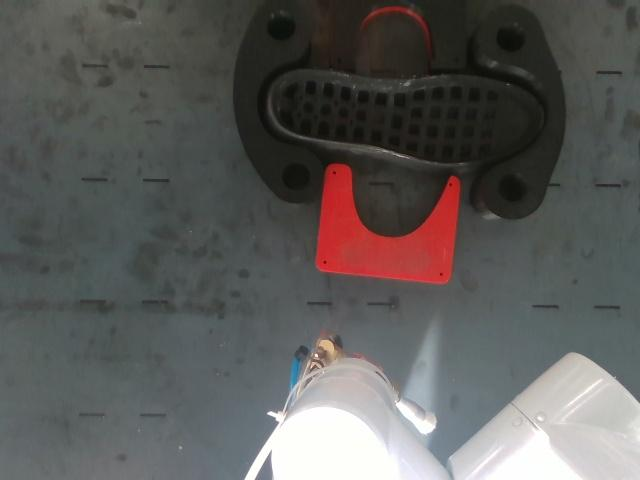shoes: (272, 69, 543, 163)
